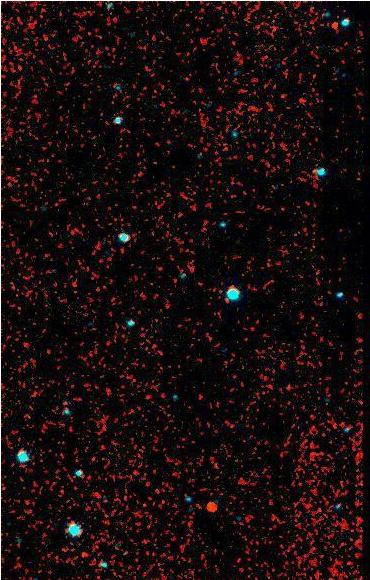star: (66, 534, 96, 564)
